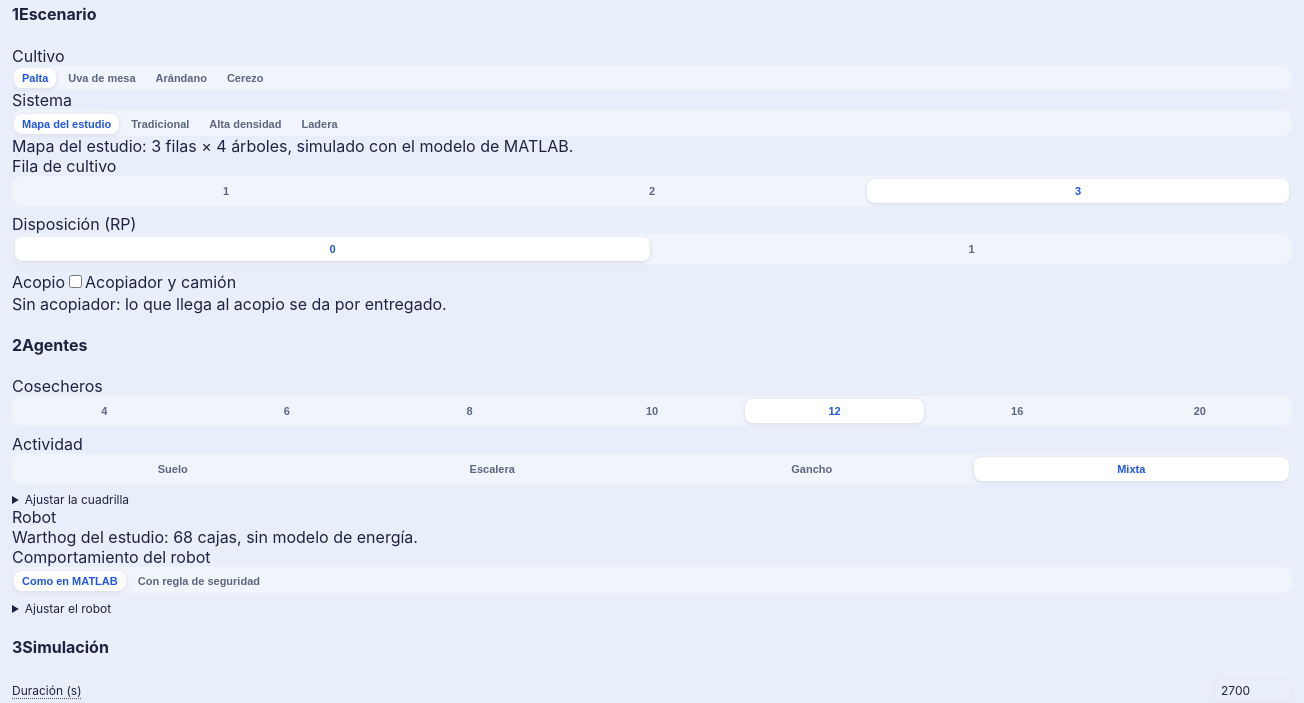
Test: SimSteps (panel izquierdo del Simulador) › ficha del robot: ancho, carga, batería y si cabe en las calles
Click the button "Arándano": (181, 78) [148,68,215,88]
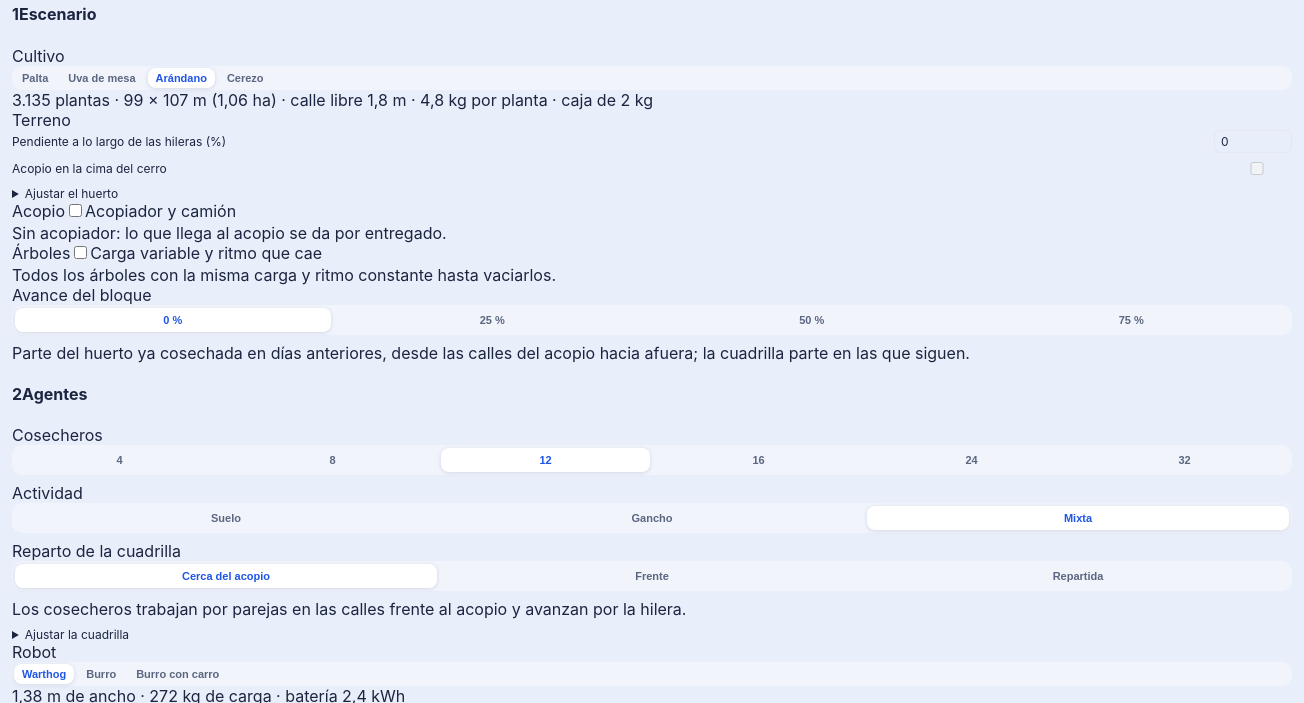
Click the button "Burro con carro": (178, 674) [128,664,227,684]
(page scrolled)
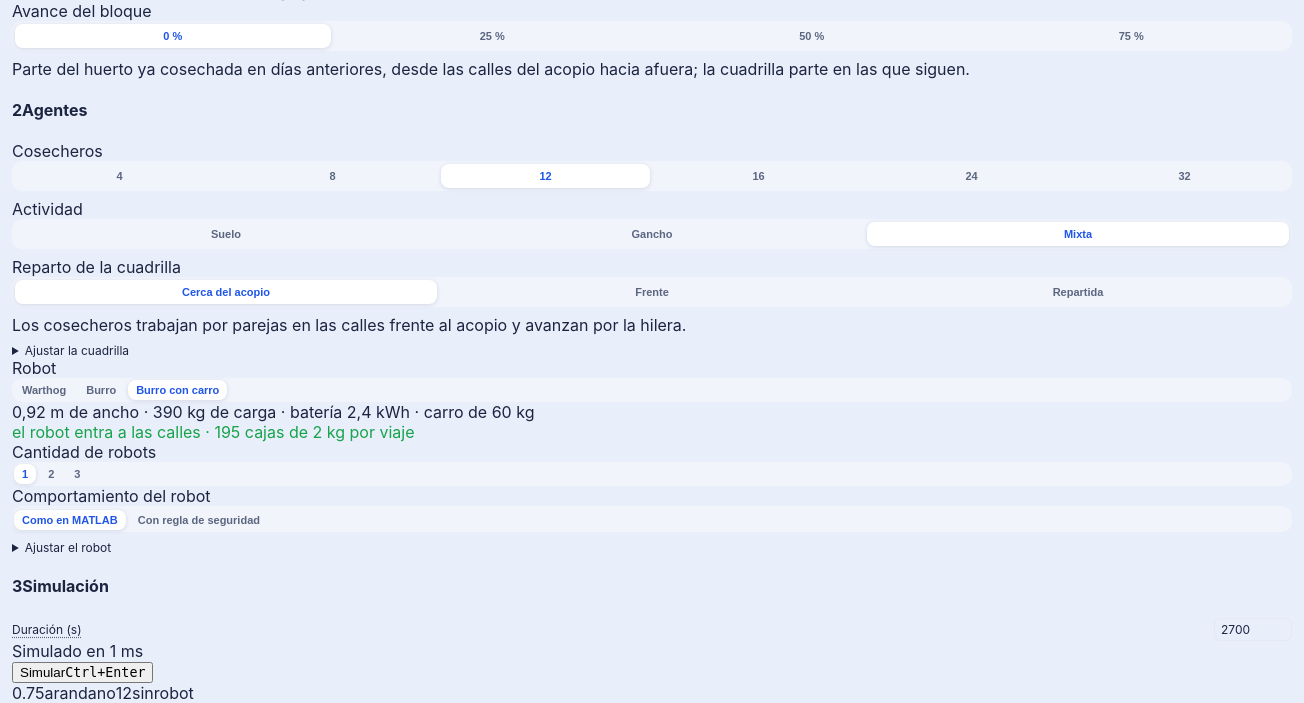
Expected: the element with test id "robot-info" shows "carro de 60 kg", [410,402,534,422]
Expected: the element with test id "robot-info" shows "entra a las calles", [12,422,201,442]
